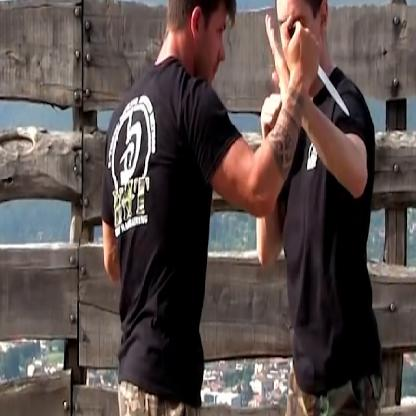knife: (280, 12, 352, 124)
